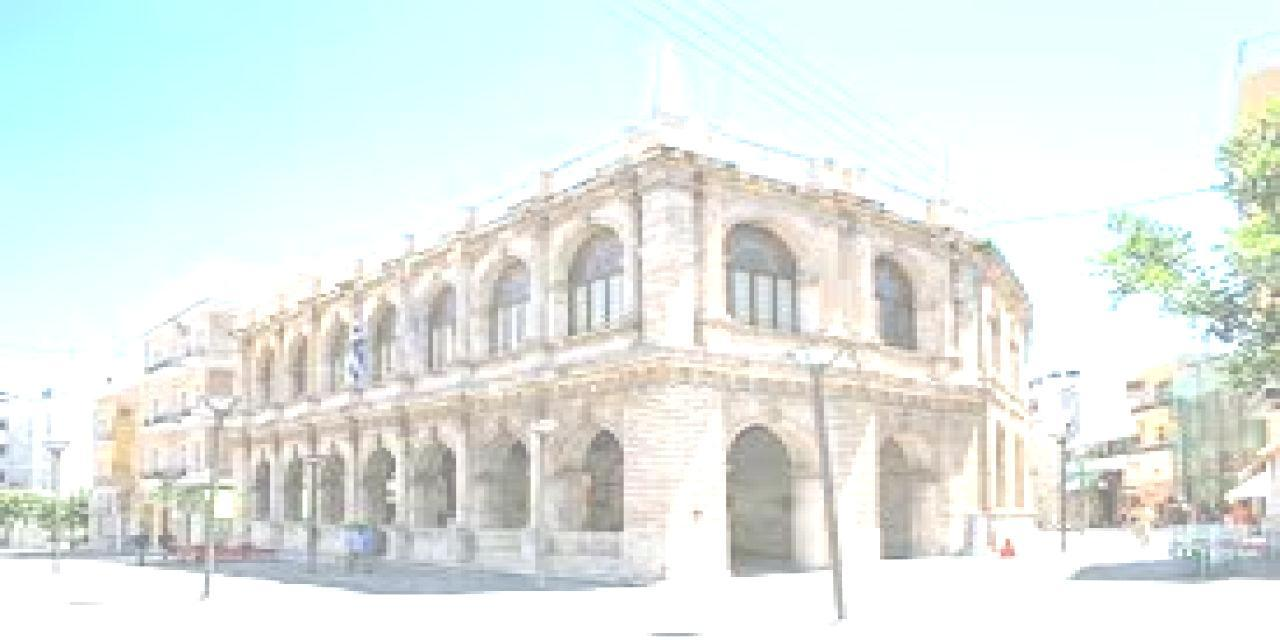Loggia: (241, 37, 1049, 580)
